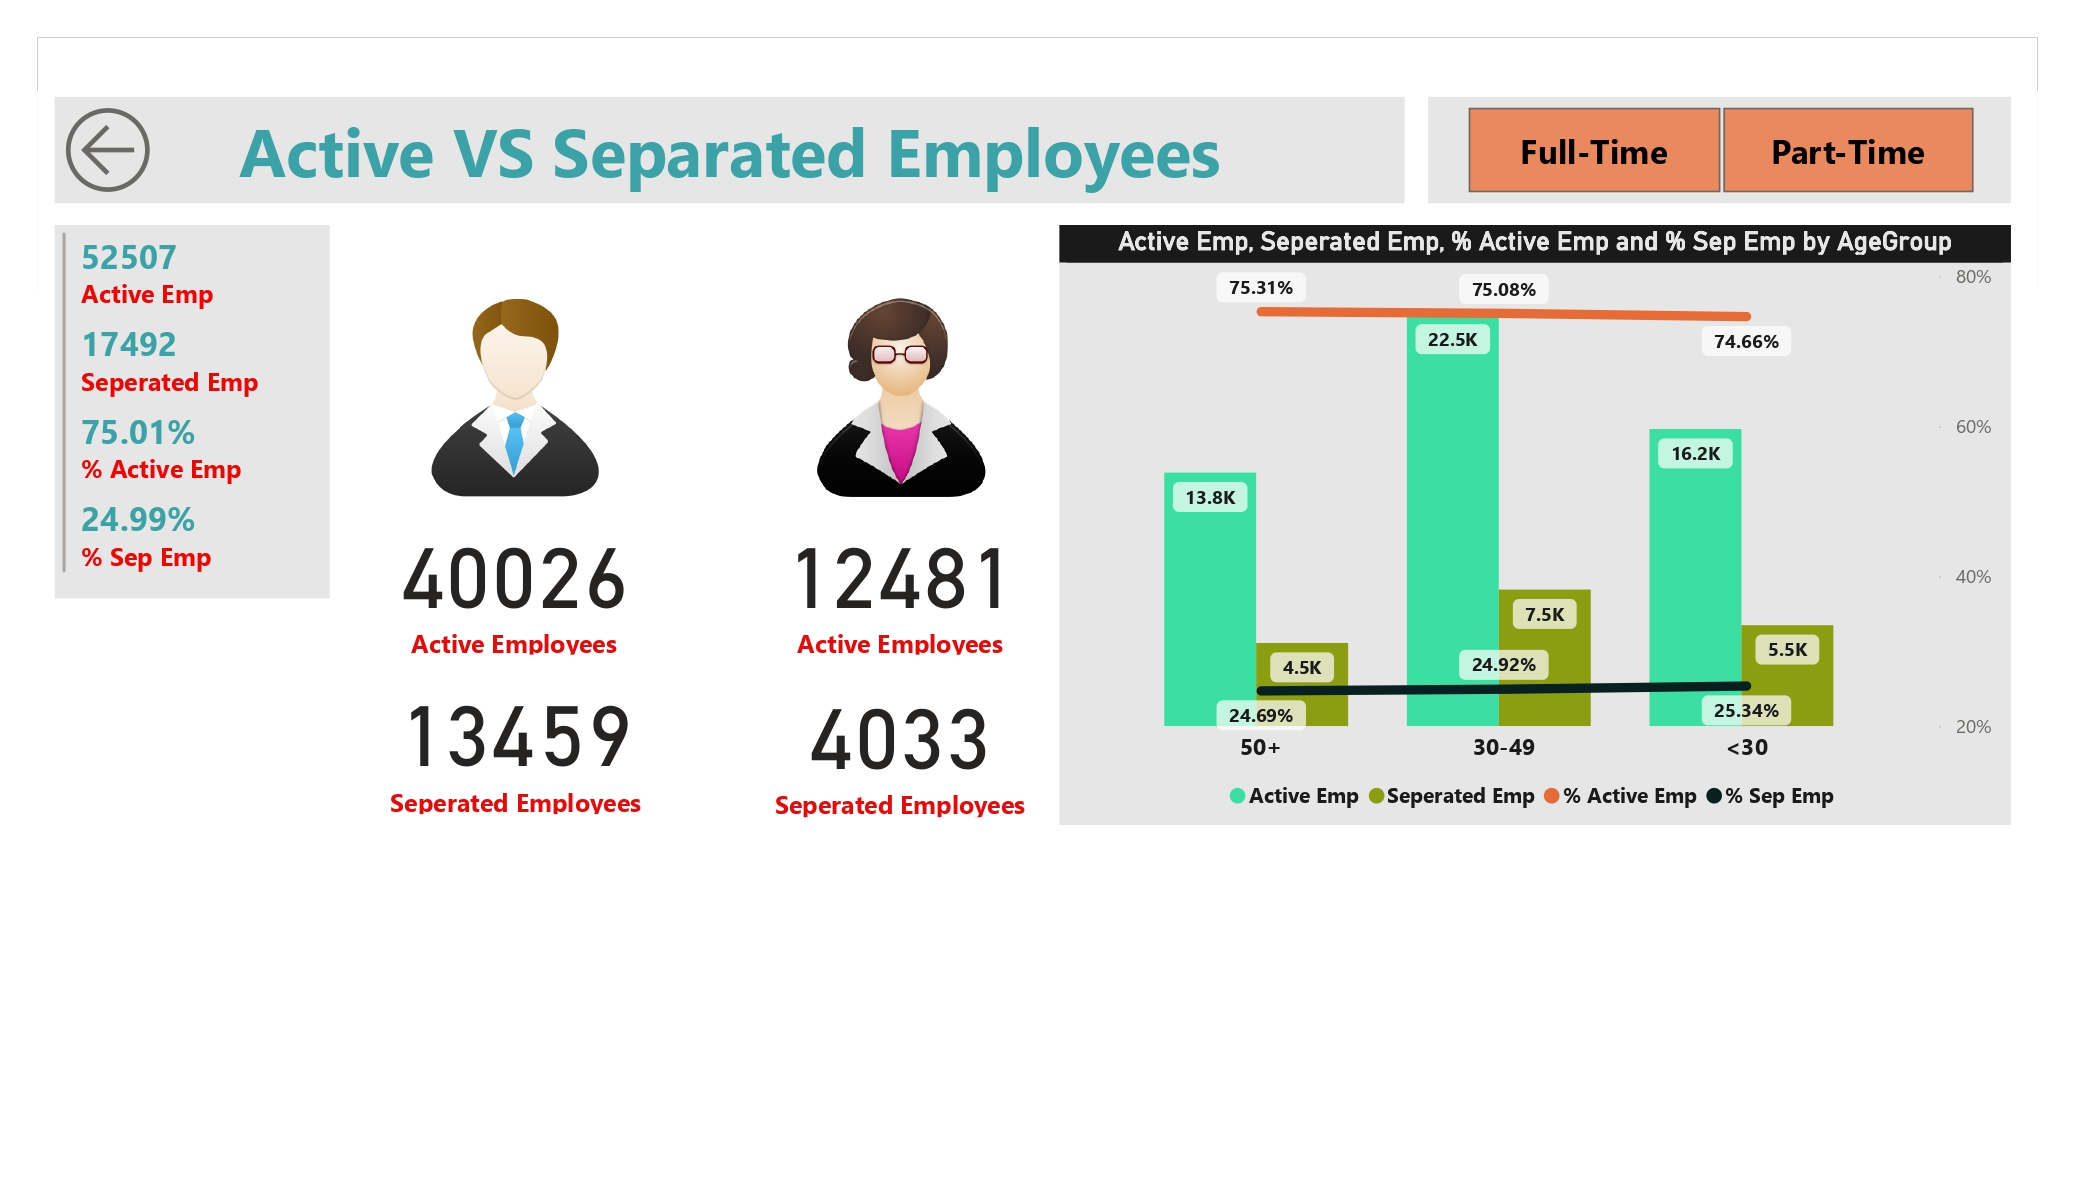

This screenshot's page, from the dashboard's own definition file:
{"tool":"powerbi","page":{"name":"Active VS Separated Employees","canvas":[1280,720],"ordinal":2},"visuals":[{"type":"multiRowCard","fields":{"Values":["All_Measures.Active Emp","All_Measures.Seperated Emp","All_Measures.% Active Emp","All_Measures.% Sep Emp"]},"box":[10.6,119.8,175.9,239.6],"z":0},{"type":"image","box":[216.9,162.3,175.9,136.5],"z":1000},{"type":"image","box":[464.1,162.3,175.9,136.5],"z":2000},{"type":"card","fields":{"Values":["All_Measures.Active Emp"]},"box":[216.9,298.8,175.9,101.6],"z":3000},{"type":"card","fields":{"Values":["All_Measures.Active Emp"]},"box":[464.1,298.8,175.9,101.6],"z":4000},{"type":"textbox","box":[10.6,37.9,864.5,68.2],"z":5000},{"type":"actionButton","box":[10.6,37.9,88,68.2],"z":6000},{"type":"lineClusteredColumnComboChart","fields":{"Category":["AgeGroup.AgeGroup"],"Y":["All_Measures.Active Emp","All_Measures.Seperated Emp"],"Y2":["All_Measures.% Active Emp","All_Measures.% Sep Emp"]},"box":[653.6,119.8,609.7,383.7],"z":7000},{"type":"slicer","fields":{"Values":["JobType.FPDesc"]},"box":[890.2,37.9,373.1,68.2],"z":8000},{"type":"card","fields":{"Values":["All_Measures.Seperated Emp"]},"box":[217.8,399.5,176.1,102.2],"z":9000},{"type":"card","fields":{"Values":["All_Measures.Seperated Emp"]},"box":[463.9,401.4,176.1,102.2],"z":10000}]}

Visuals, with their boxes on the page's 1280x720 design canvas (x1, y1, x2, y2). These are canvas units, not pixel positions in the 2075x1200 screenshot, which may show the page scaled, cropped or inside an application window:
multiRowCard - All_Measures.Active Emp x All_Measures.Seperated Emp: box(11, 120, 186, 359)
image: box(217, 162, 393, 299)
image: box(464, 162, 640, 299)
card - All_Measures.Active Emp: box(217, 299, 393, 400)
card - All_Measures.Active Emp: box(464, 299, 640, 400)
textbox: box(11, 38, 875, 106)
actionButton: box(11, 38, 99, 106)
lineClusteredColumnComboChart - AgeGroup.AgeGroup x All_Measures.Active Emp: box(654, 120, 1263, 504)
slicer - JobType.FPDesc: box(890, 38, 1263, 106)
card - All_Measures.Seperated Emp: box(218, 400, 394, 502)
card - All_Measures.Seperated Emp: box(464, 401, 640, 504)
